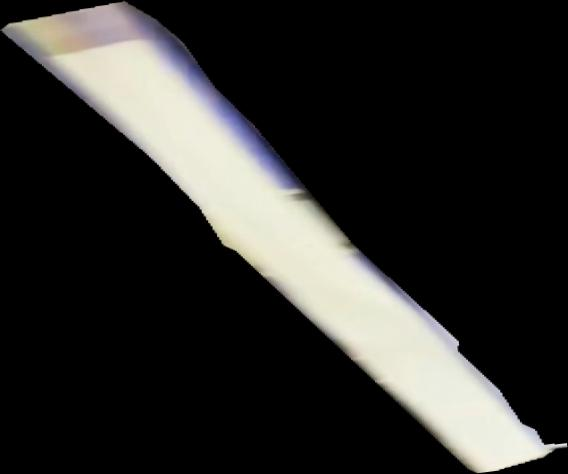backward: (1, 1, 568, 474)
